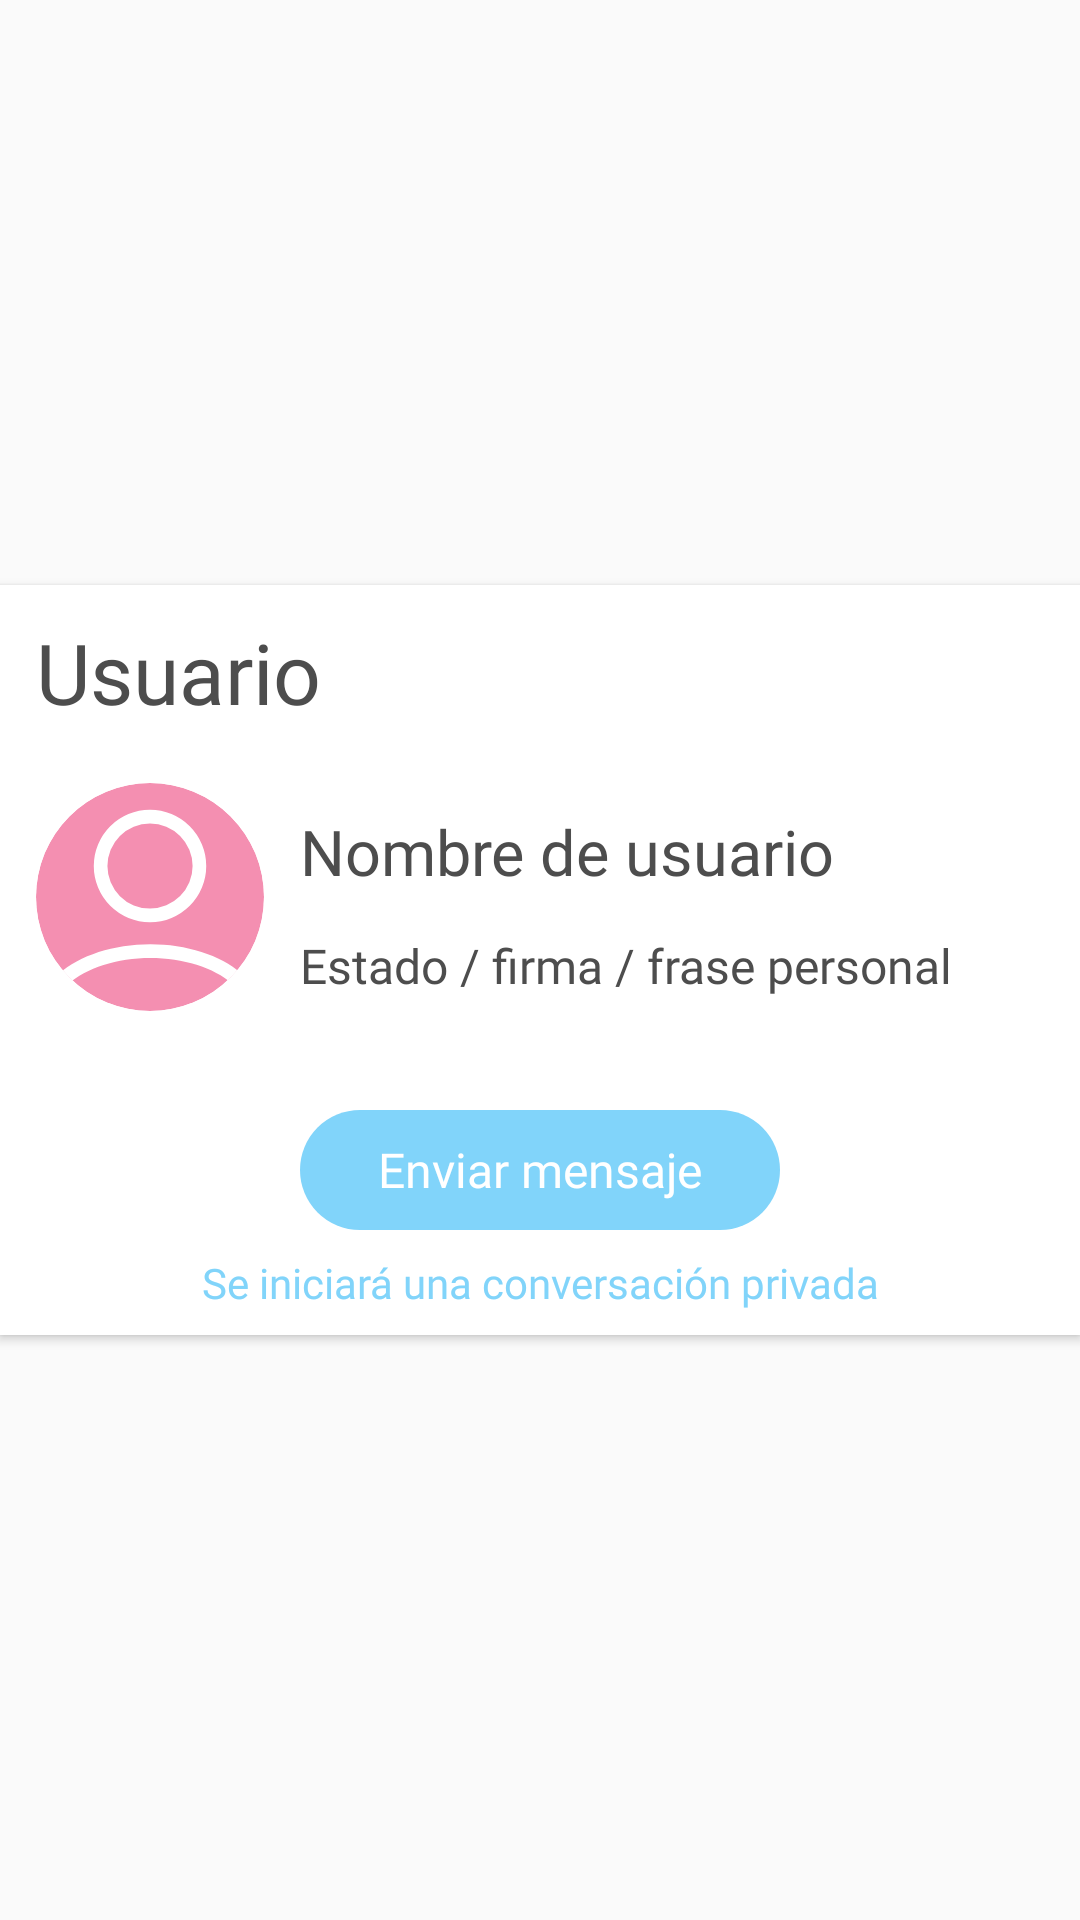

Named icons in this screenshot (1080 × 1920) and their centers, [x,y]:
user: [150,897]
